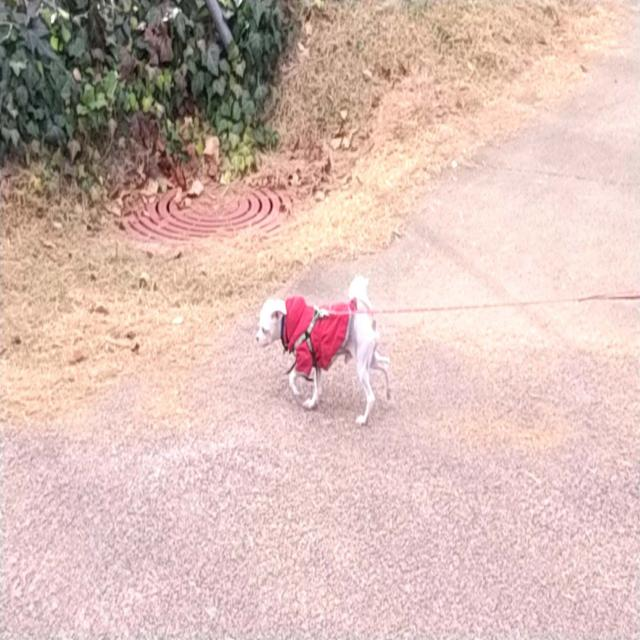Dog: (256, 276, 391, 425)
